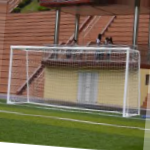goals: (5, 44, 143, 119)
